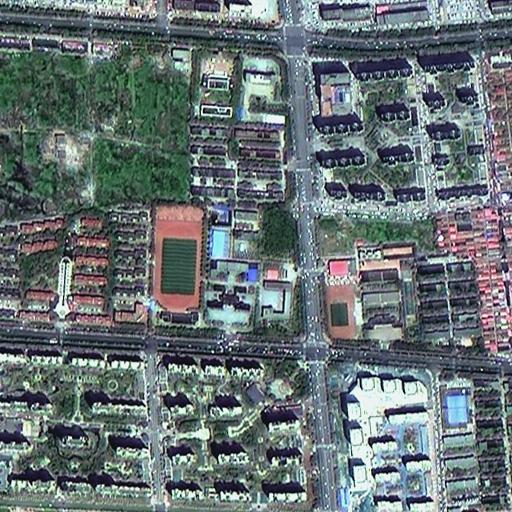school: (152, 203, 293, 332), (321, 242, 418, 342)
